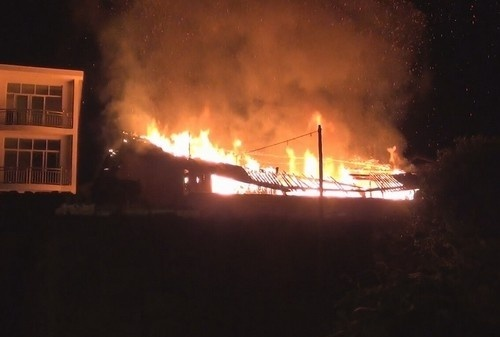fire: (141, 108, 420, 200)
